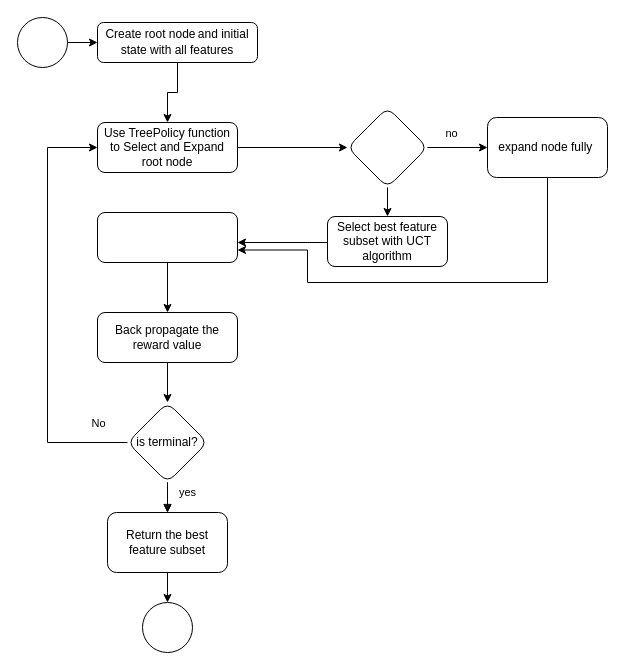
Image size: 625x670. Some labels were removed from this diagram. The box of each missing label's shape, as (x1, y1, x2, y2) in pixels:
End: (142, 602, 192, 652)
is leaf node?: (346, 106, 428, 188)
Start: (16, 16, 68, 68)
Use DefaultPolicy function to Simulate and compute future reward: (96, 212, 238, 262)
